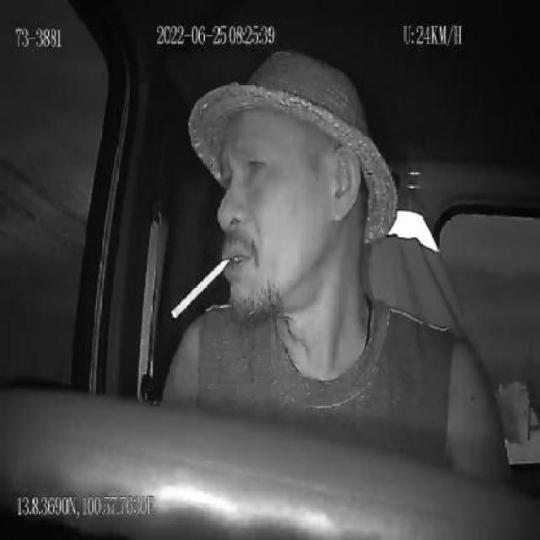smoking: (170, 255, 235, 320)
